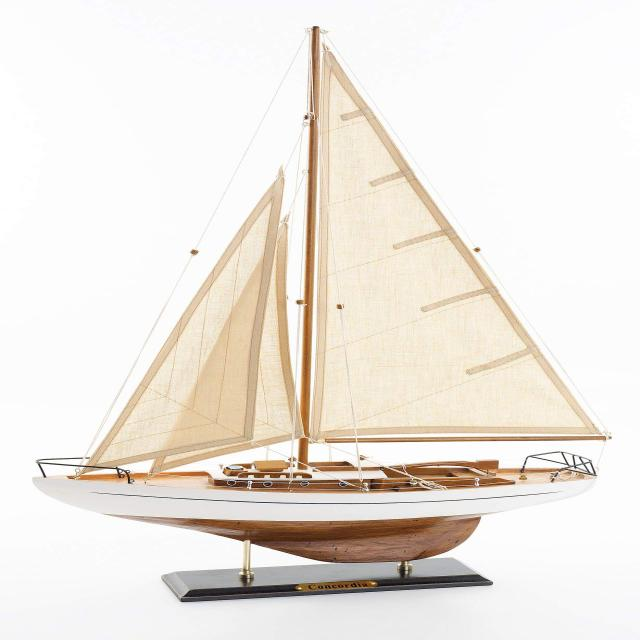boat: (35, 19, 614, 603)
